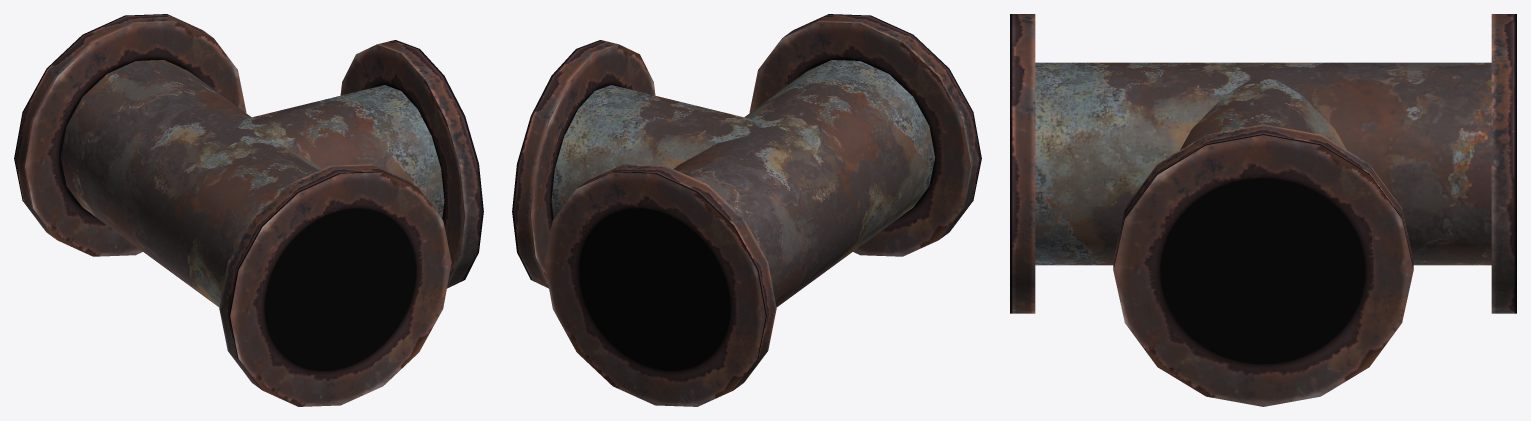
Rendered from pipe03_T.fbx.
3 renders of one model, left to right at view 1: azimuth 30°, elevation 25°; view 2: azimuth 150°, elevation 25°; view 3: azimuth 270°, elevation 25°, orthographic. The views are drawn at different scales.
Parts seen in each view (by area): view 1: pipe03_T; view 2: pipe03_T; view 3: pipe03_T.
Boxes of the visible parts, x1=… form: pipe03_T: x1=14, y1=14, x2=483, y2=406; pipe03_T: x1=512, y1=14, x2=981, y2=406; pipe03_T: x1=1010, y1=14, x2=1516, y2=406.
Bounding box in the file's own units: 79.6 × 59.2 × 100.
